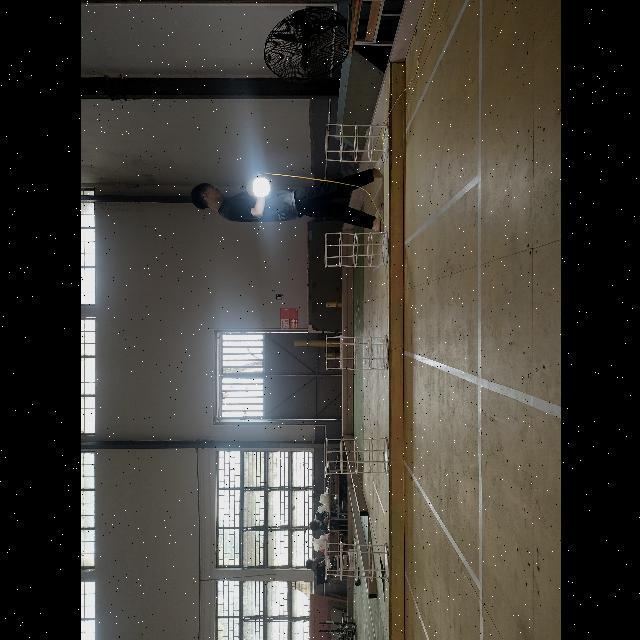S: (319, 536, 387, 586), (320, 118, 390, 166), (322, 434, 392, 478), (323, 333, 391, 372), (322, 232, 388, 268)
